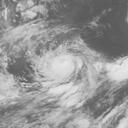cyclone: (31, 38, 102, 109)
